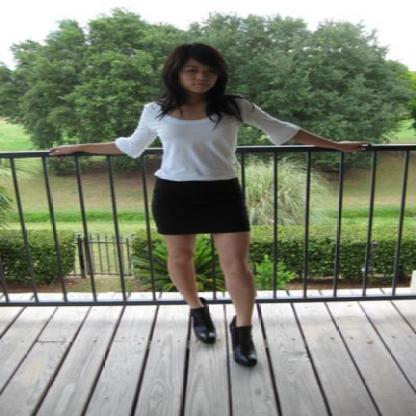shirt: (105, 99, 301, 185)
shoe: (187, 308, 256, 374)
skirt: (144, 175, 250, 234)
